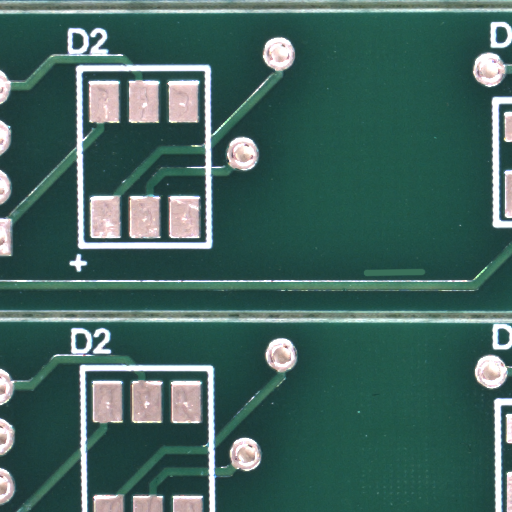Spurious_copper: (394, 272, 455, 286)
